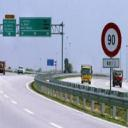speed_limit_90: (102, 22, 120, 56)
